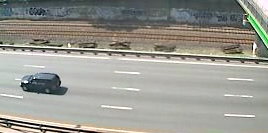car: (17, 70, 65, 98)
